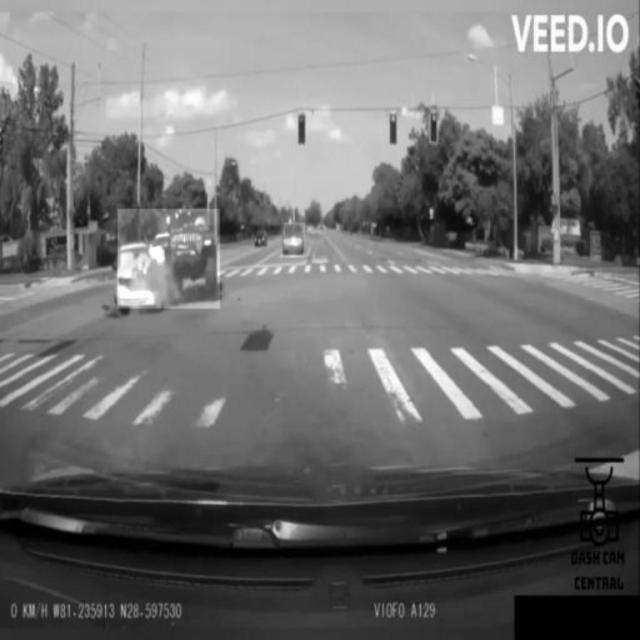accident: (117, 209, 219, 309)
vehicle: (284, 223, 304, 258)
